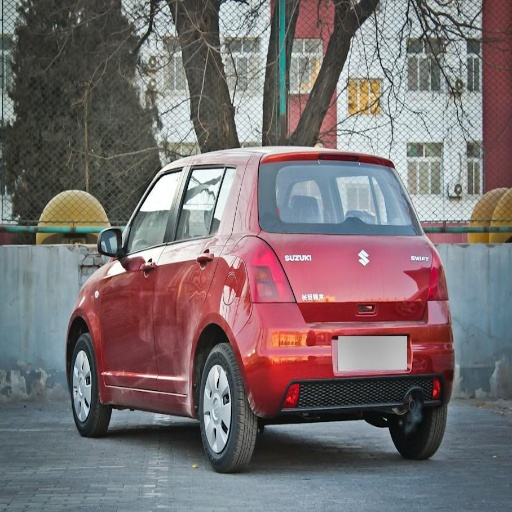back_bumper: (258, 301, 454, 416)
back_glass: (258, 161, 412, 229)
back_left_door: (153, 167, 224, 392)
trunk: (235, 229, 433, 397)
